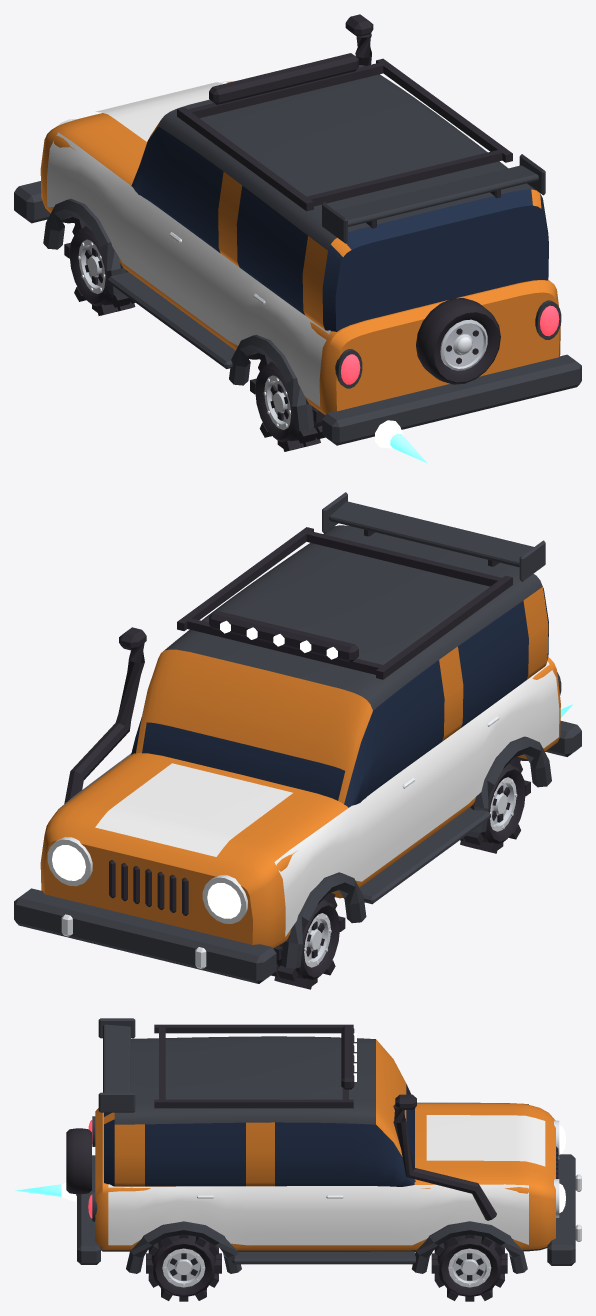
File: car_jeep.glb
3 views of the same model, one above another, from view 1: azimuth 30°, elevation 25°; view 2: azimuth 150°, elevation 25°; view 3: azimuth 270°, elevation 25° (orthographic). The views are drawn at different scales.
Parts seen in each view (by area): view 1: Body, Vinyl, Spoiler, WheelRL, WheelFL, NitroFlame; view 2: Body, Vinyl, Spoiler, WheelFL, WheelRL; view 3: Body, Vinyl, WheelFR, WheelRR, Spoiler, NitroFlame.
Part boxes in pixels (left/top/right/bottom): Body: left=14, top=14, right=581, bottom=445; Vinyl: left=47, top=82, right=549, bottom=406; Spoiler: left=322, top=154, right=545, bottom=243; WheelRL: left=250, top=355, right=325, bottom=451; WheelFL: left=64, top=219, right=135, bottom=315; NitroFlame: left=375, top=420, right=427, bottom=463; Body: left=14, top=525, right=581, bottom=983; Vinyl: left=57, top=661, right=559, bottom=936; Spoiler: left=322, top=492, right=545, bottom=581; WheelFL: left=271, top=893, right=345, bottom=989; WheelRL: left=460, top=757, right=530, bottom=853; Body: left=66, top=1024, right=581, bottom=1273; Vinyl: left=108, top=1102, right=545, bottom=1245; WheelFR: left=431, top=1234, right=507, bottom=1301; WheelRR: left=146, top=1234, right=221, bottom=1301; Spoiler: left=98, top=1018, right=135, bottom=1112; NitroFlame: left=15, top=1182, right=75, bottom=1201.
Size of the model in its own units: 2.2 by 2.13 by 5.26.
